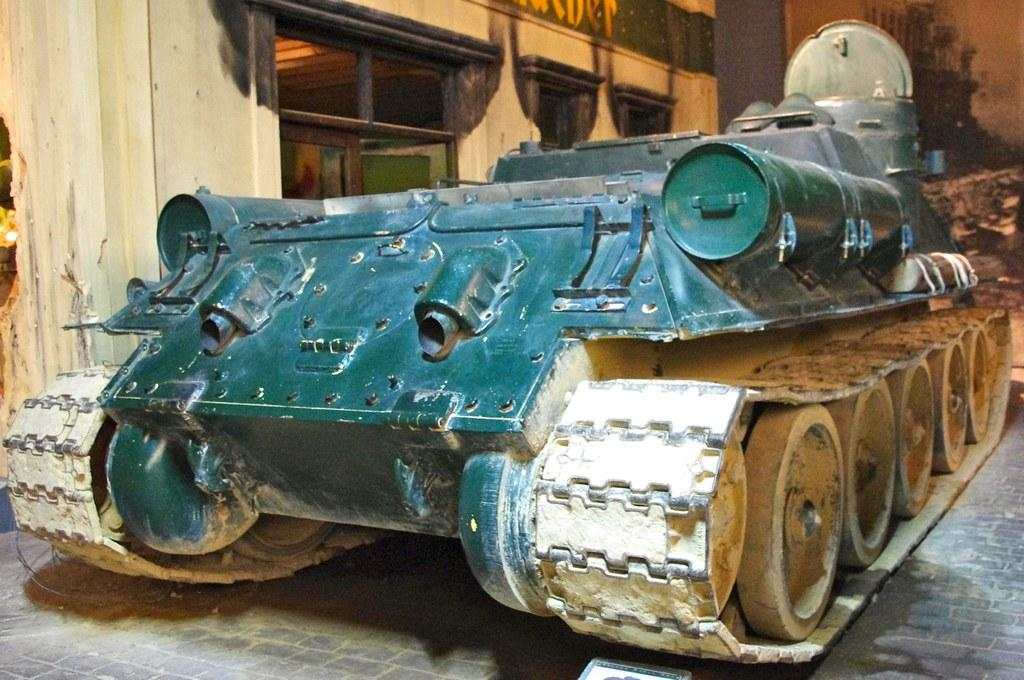Tank: (3, 16, 1016, 663)
